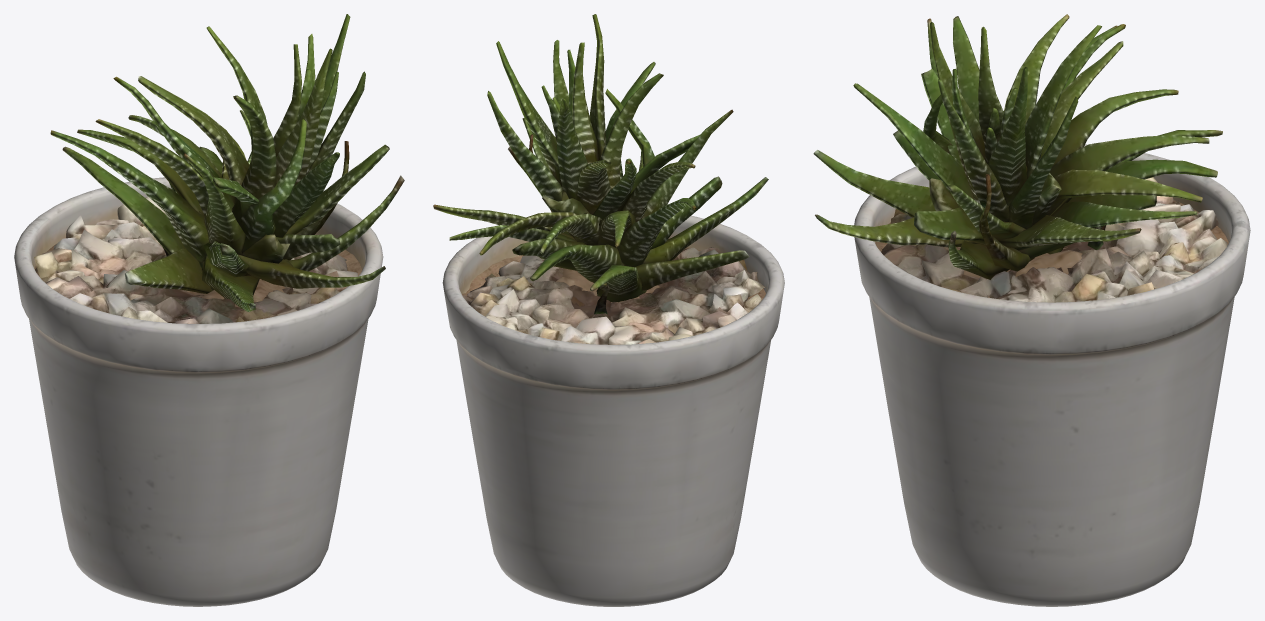
The model's file is desk-plant.glb.
3 views of the same model, side by side, from view 1: azimuth 30°, elevation 25°; view 2: azimuth 150°, elevation 25°; view 3: azimuth 270°, elevation 25° (orthographic). The views are drawn at different scales.
Visible parts, largest first — view 1: potted_plant_04_pot, potted_plant_04_plant, potted_plant_04_ground, potted_plant_04_dirt; view 2: potted_plant_04_pot, potted_plant_04_plant, potted_plant_04_ground, potted_plant_04_dirt; view 3: potted_plant_04_pot, potted_plant_04_plant, potted_plant_04_ground, potted_plant_04_dirt.
Part boxes in pixels (<box>): potted_plant_04_pot: <box>14,177,383,606</box>; potted_plant_04_plant: <box>50,14,404,311</box>; potted_plant_04_ground: <box>34,196,357,323</box>; potted_plant_04_dirt: <box>34,238,362,307</box>; potted_plant_04_pot: <box>442,215,784,606</box>; potted_plant_04_plant: <box>433,14,768,314</box>; potted_plant_04_ground: <box>463,247,765,344</box>; potted_plant_04_dirt: <box>462,247,765,306</box>; potted_plant_04_pot: <box>854,144,1250,606</box>; potted_plant_04_plant: <box>813,14,1222,279</box>; potted_plant_04_ground: <box>881,177,1227,302</box>; potted_plant_04_dirt: <box>875,200,1228,297</box>.
Size of the model in its own units: 0.1679 by 0.2675 by 0.1848.
Materials: 1 (1 with a texture image).
